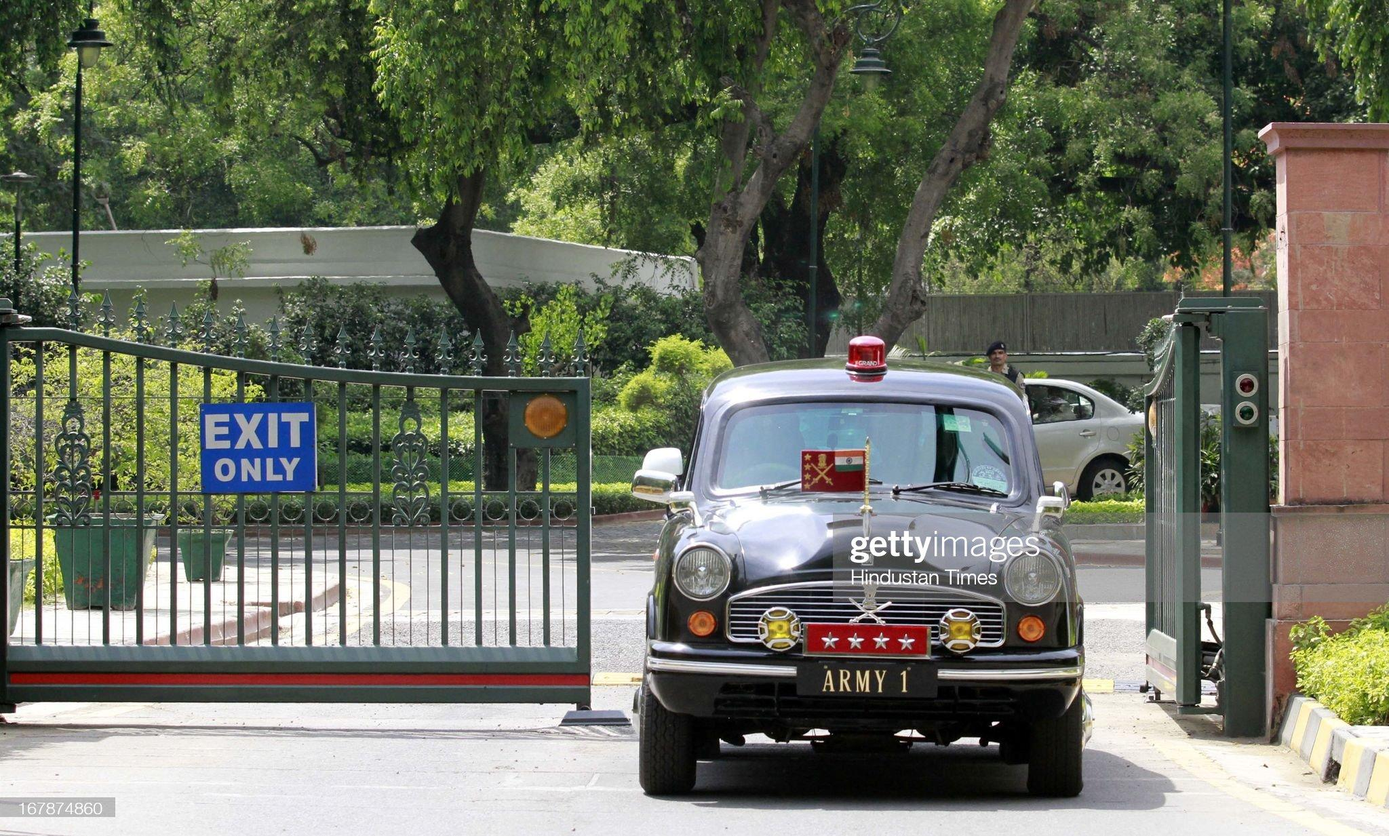Emergency-Vehicles: (612, 321, 1104, 811)
